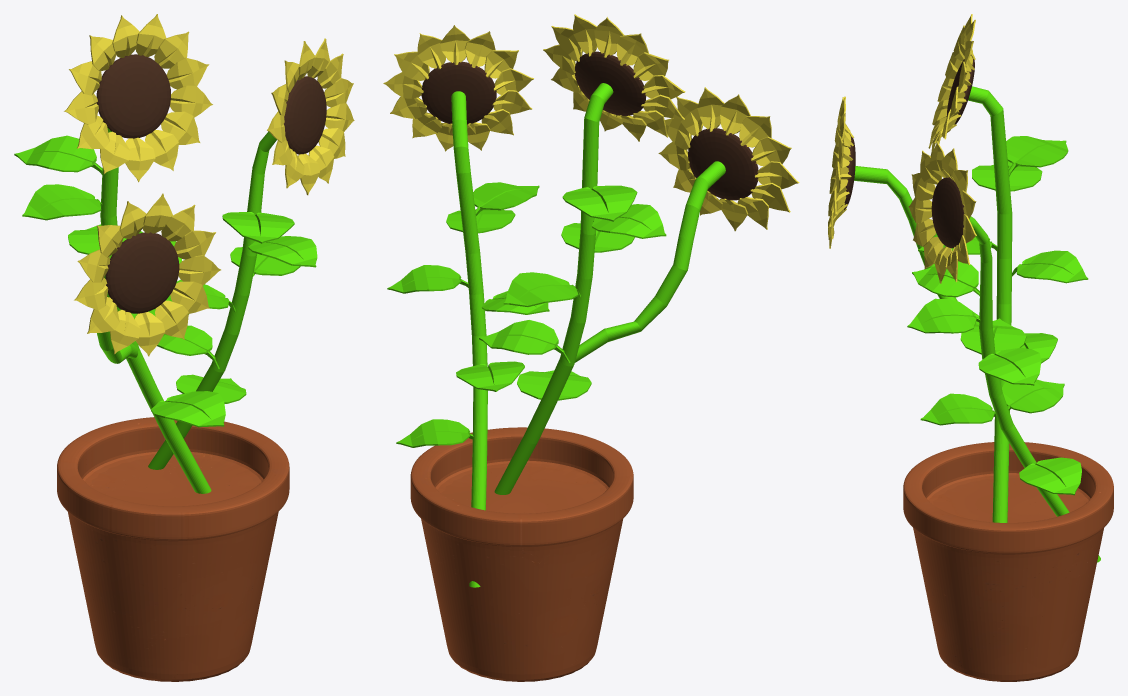
The model's file is flower pot3.fbx.
3 views of the same model, side by side, from view 1: azimuth 30°, elevation 25°; view 2: azimuth 150°, elevation 25°; view 3: azimuth 270°, elevation 25° (orthographic). The views are drawn at different scales.
Visible parts, largest first — view 1: Small Plant Pot.001, Sunflower2.001, Sunflower.001; view 2: Small Plant Pot.001, Sunflower2.001, Sunflower.001; view 3: Small Plant Pot.001, Sunflower.001, Sunflower2.001.
Boxes of the visible parts, x1,y1,x2,y2 form: Small Plant Pot.001: [57, 417, 289, 681]; Sunflower2.001: [14, 14, 225, 493]; Sunflower.001: [148, 38, 354, 469]; Small Plant Pot.001: [410, 427, 633, 681]; Sunflower2.001: [479, 14, 799, 494]; Sunflower.001: [383, 25, 549, 587]; Small Plant Pot.001: [903, 442, 1113, 681]; Sunflower.001: [907, 141, 1100, 562]; Sunflower2.001: [828, 14, 1088, 522].
Size of the model in its own units: 24.44 by 43.66 by 18.73.
Materials: 4 (1 with a texture image).
